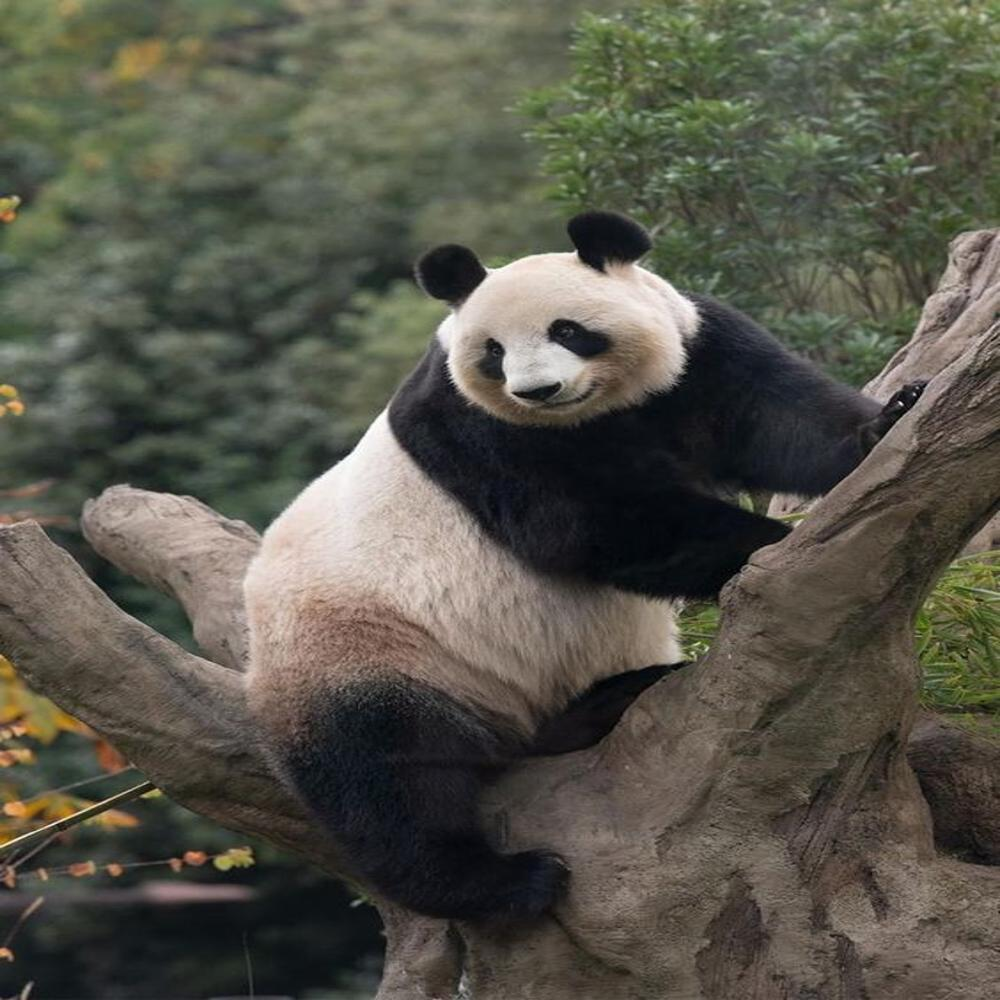panda: (238, 208, 944, 951)
